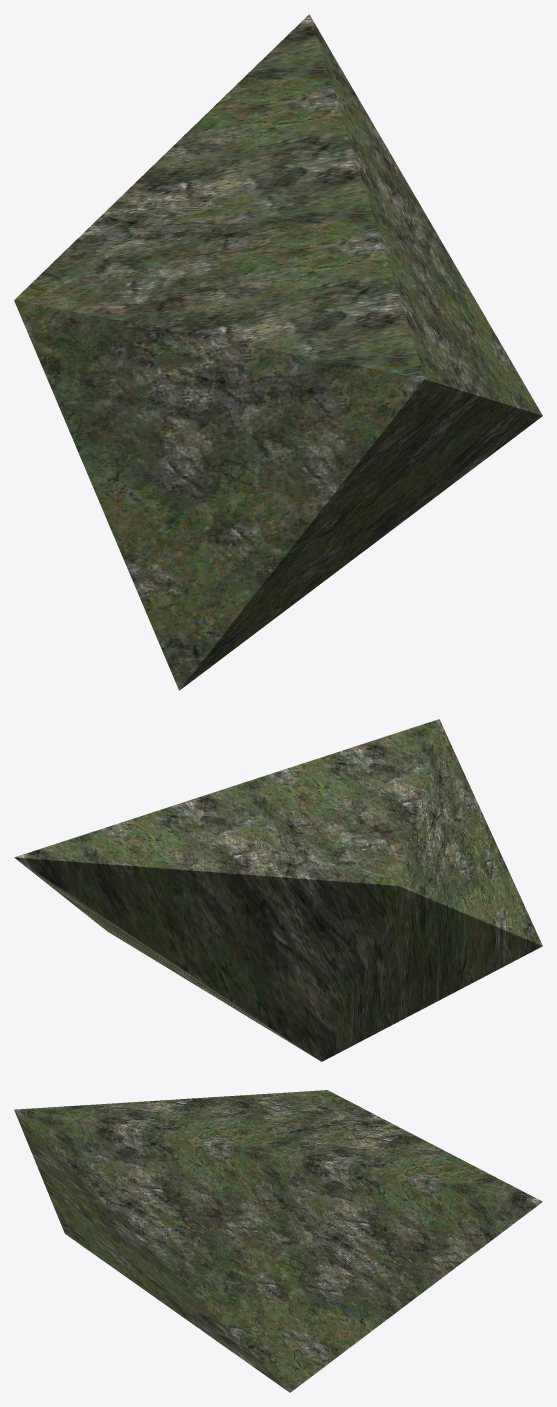
Rendered from mtns_rock_moss_a5_l3.fbx.
The picture shows the model from 3 angles, top to bottom: view 1: azimuth 30°, elevation 25°; view 2: azimuth 150°, elevation 25°; view 3: azimuth 270°, elevation 25°; orthographic projection. The views are drawn at different scales.
Parts seen in each view (by area): view 1: mesh_node; view 2: mesh_node; view 3: mesh_node.
Part boxes in pixels (x1,y1,x2,y2): mesh_node: (14,14,542,690); mesh_node: (14,719,542,1061); mesh_node: (14,1090,542,1392).
Size of the model in its own units: 0.7115 by 0.521 by 0.9272.
